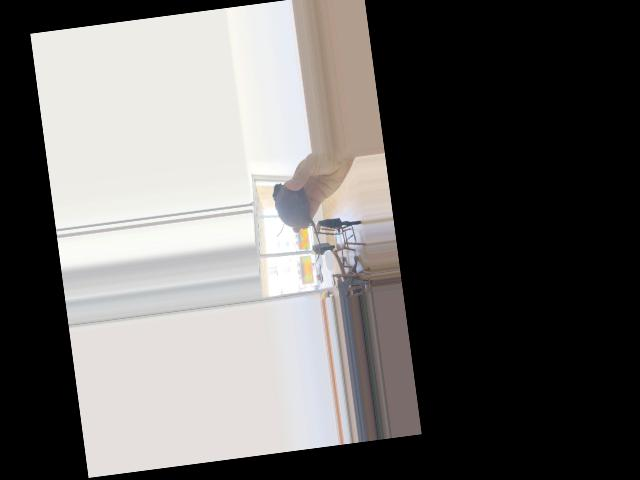beet: (271, 179, 322, 267)
